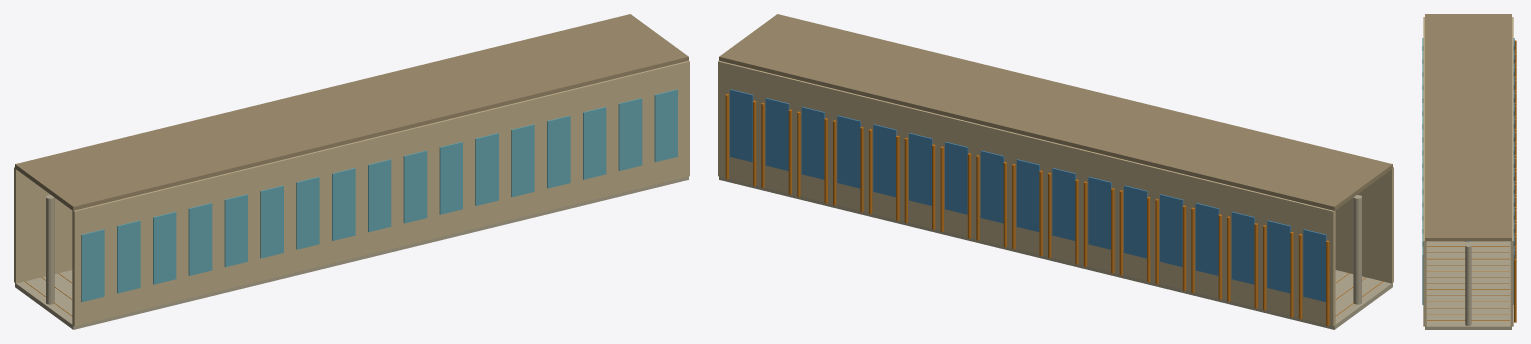
File: versailles-hall.obj
The picture shows the model from 3 angles, left to right: view 1: azimuth 30°, elevation 25°; view 2: azimuth 150°, elevation 25°; view 3: azimuth 270°, elevation 25°; orthographic projection. The views are drawn at different scales.
Parts seen in each view (by area): view 1: south_wall, vaulted_ceiling, mirror_panel, north_wall, marble_floor, end_column; view 2: vaulted_ceiling, north_wall, arched_window, gilded_pilaster, south_wall, marble_floor, end_column; view 3: vaulted_ceiling, marble_floor, parquet_inlay, gilded_pilaster, north_wall, south_wall, end_column, mirror_panel, arched_window.
Part boxes in pixels (box(x1,y1,x2,y2)): south_wall: box(72, 60, 689, 326); vaulted_ceiling: box(15, 14, 688, 210); mirror_panel: box(81, 89, 677, 301); north_wall: box(14, 167, 72, 283); marble_floor: box(15, 176, 688, 329); end_column: box(46, 195, 54, 304); vaulted_ceiling: box(719, 14, 1392, 210); north_wall: box(718, 60, 1335, 326); arched_window: box(730, 89, 1326, 301); gilded_pilaster: box(725, 94, 1329, 325); south_wall: box(1335, 167, 1393, 283); marble_floor: box(719, 176, 1392, 329); end_column: box(1353, 195, 1361, 304); vaulted_ceiling: box(1425, 14, 1511, 241); marble_floor: box(1425, 241, 1511, 329); parquet_inlay: box(1427, 246, 1509, 320); gilded_pilaster: box(1514, 40, 1516, 322); north_wall: box(1510, 17, 1513, 326); south_wall: box(1423, 17, 1426, 326); end_column: box(1465, 244, 1471, 325); mirror_panel: box(1422, 38, 1423, 304); arched_window: box(1513, 38, 1514, 304).
Bounding box in the file's own units: 73 × 13.95 × 12.99.
